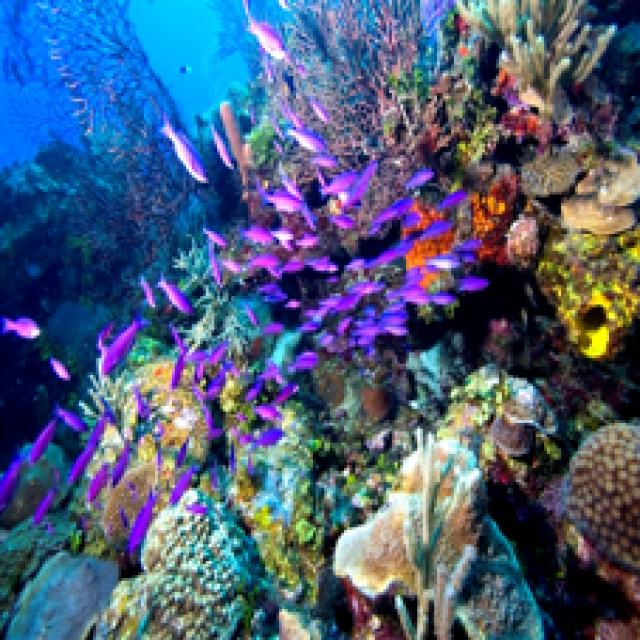Healthy: (334, 379, 551, 638), (100, 492, 263, 638), (458, 1, 613, 117), (540, 224, 638, 359), (565, 424, 638, 573), (523, 142, 638, 232)
